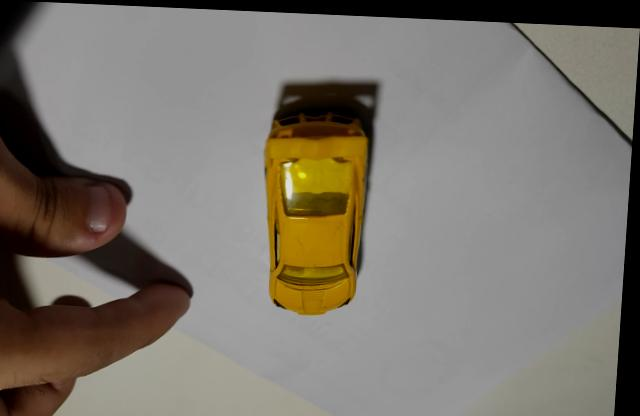07_RHLTURBO: (266, 106, 374, 311)
